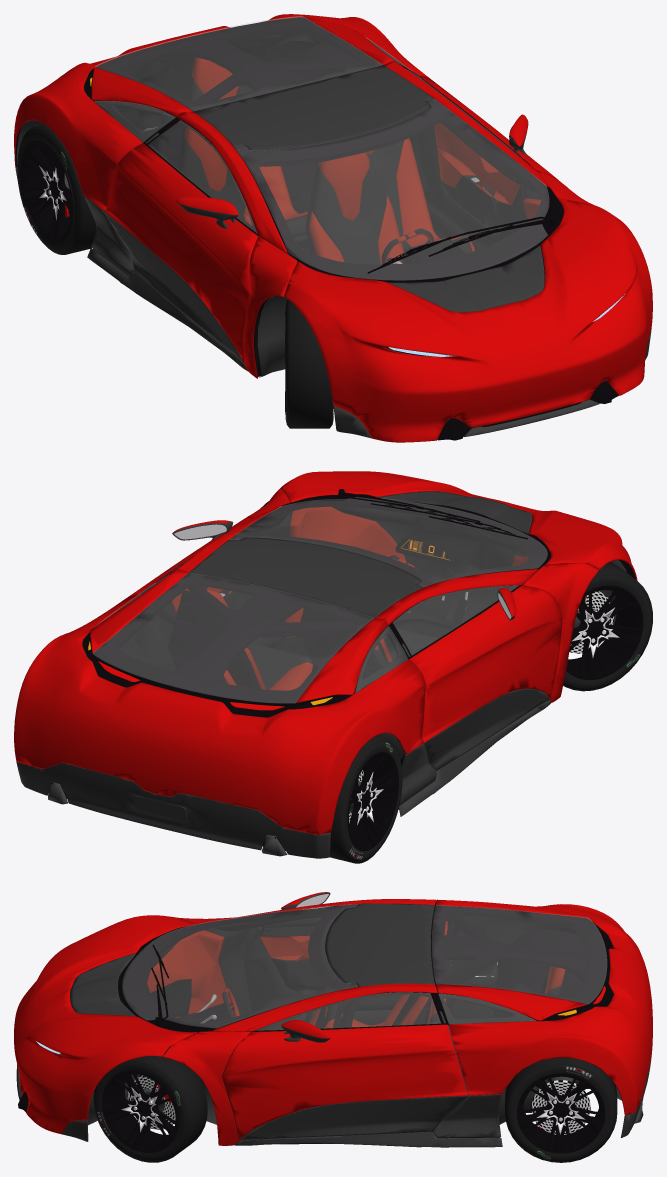
File: car-concept-001.glb
3 renders of one model, top to bottom at view 1: azimuth 30°, elevation 25°; view 2: azimuth 150°, elevation 25°; view 3: azimuth 270°, elevation 25°, orthographic. The views are drawn at different scales.
Parts seen in each view (by area): view 1: BodyHood, BodyWindshield, BodyRearwindow, BodyDoorRColor1, BodyRearPanelsColor1, BodyRoofPanel, BodyWindshieldGasket, InteriorSeatsColor1, InteriorSeatsColor2, BodyPillars, InteriorPillar, InteriorRearHatch (+21 smaller); view 2: BodyRearPanelsColor1, BodyRearwindow, BodyWindshield, BodyDoorRColor1, BodyPanelsColor2, BodyRoofPanel, BodyHood, InteriorRearHatch, BodyPillars, InteriorPillar, InteriorDashMid, BodyWindshieldGasket (+22 smaller); view 3: BodyRearPanelsColor1, BodyWindshield, BodyDoorLColor1, BodyHood, BodyRearwindow, BodyRoofPanel, BodyPillars, BodyWindshieldGasket, BodyDoorLColor2, BodyPanelsColor2, WheelFrontL, InteriorRearHatch (+25 smaller).
Part boxes in pixels (x1=…): BodyHood: x1=283, y1=198, x2=652, y2=442; BodyWindshield: x1=234, y1=98, x2=549, y2=280; BodyRearwindow: x1=95, y1=16, x2=382, y2=110; BodyDoorRColor1: x1=104, y1=143, x2=257, y2=363; BodyRearPanelsColor1: x1=14, y1=14, x2=428, y2=210; BodyRoofPanel: x1=193, y1=65, x2=432, y2=150; BodyWindshieldGasket: x1=234, y1=99, x2=563, y2=282; InteriorSeatsColor1: x1=185, y1=57, x2=475, y2=264; InteriorSeatsColor2: x1=180, y1=77, x2=472, y2=264; BodyPillars: x1=176, y1=61, x2=599, y2=378; InteriorPillar: x1=158, y1=37, x2=434, y2=168; InteriorRearHatch: x1=93, y1=17, x2=383, y2=117; BodyRearPanelsColor1: x1=14, y1=569, x2=425, y2=834; BodyRearwindow: x1=92, y1=573, x2=373, y2=703; BodyWindshield: x1=229, y1=497, x2=547, y2=587; BodyDoorRColor1: x1=409, y1=585, x2=562, y2=742; BodyPanelsColor2: x1=16, y1=700, x2=550, y2=858; BodyRoofPanel: x1=189, y1=537, x2=422, y2=617; BodyHood: x1=279, y1=471, x2=637, y2=580; InteriorRearHatch: x1=93, y1=573, x2=386, y2=707; BodyPillars: x1=175, y1=489, x2=599, y2=702; InteriorPillar: x1=174, y1=574, x2=417, y2=682; InteriorDashMid: x1=331, y1=503, x2=528, y2=622; BodyWindshieldGasket: x1=230, y1=497, x2=550, y2=587; BodyRearPanelsColor1: x1=436, y1=899, x2=652, y2=1115; BodyWindshield: x1=122, y1=904, x2=357, y2=1028; BodyDoorLColor1: x1=222, y1=1024, x2=467, y2=1140; BodyHood: x1=14, y1=915, x2=196, y2=1133; BodyRearwindow: x1=432, y1=905, x2=606, y2=1003; BodyRoofPanel: x1=326, y1=903, x2=434, y2=986; BodyPillars: x1=163, y1=899, x2=437, y2=1145; BodyWindshieldGasket: x1=118, y1=905, x2=357, y2=1032; BodyDoorLColor2: x1=240, y1=1096, x2=467, y2=1140; BodyPanelsColor2: x1=16, y1=1045, x2=652, y2=1147; WheelFrontL: x1=93, y1=1054, x2=207, y2=1162; InteriorRearHatch: x1=432, y1=905, x2=606, y2=1020.
Size of the model in its own units: 2.54 by 1.15 by 4.36.
23 materials, 5 textured.
